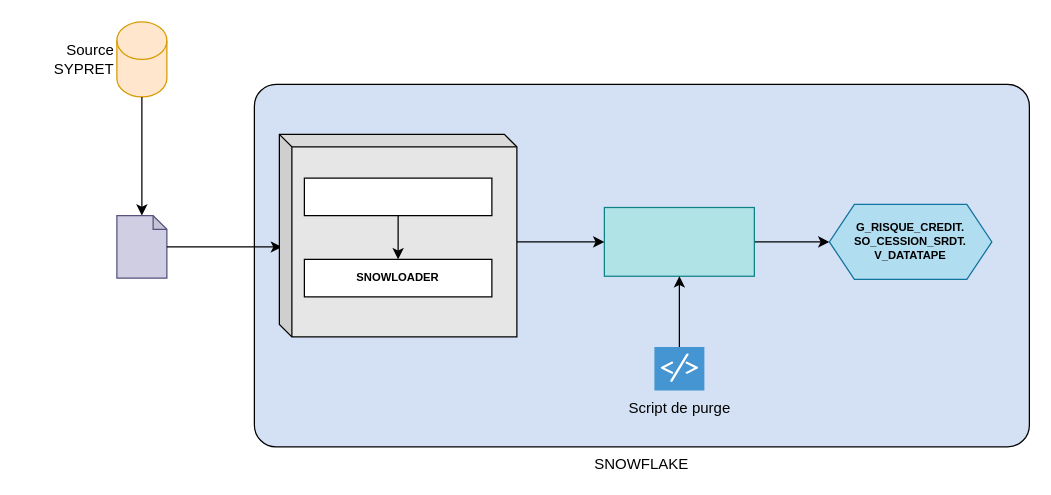
Image size: 1051x495. Some labels were removed from this diagram. Each missing label, with the box of its shape:
LAZYLOADER: (303, 177, 492, 216)
PRD_SA.SO_SRDT. CONS_DATATAPE: (603, 206, 754, 276)
SYPRET.DATATAPE.j.00.SSAAMMJJ-HHMMSS.csv: (116, 214, 167, 278)
